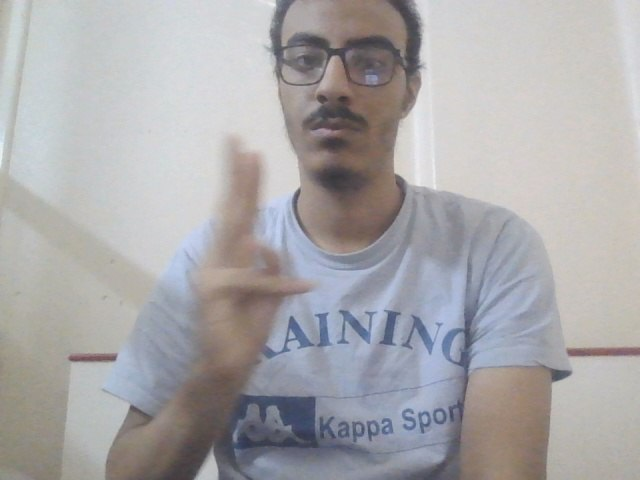Water: (178, 125, 324, 381)
